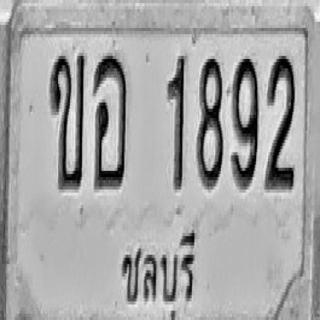A02: (49, 51, 85, 188)
A43: (93, 51, 127, 185)
N01: (167, 51, 186, 188)
N02: (264, 51, 295, 188)
N08: (196, 54, 223, 188)
N09: (231, 54, 258, 188)
P13: (118, 218, 200, 320)
